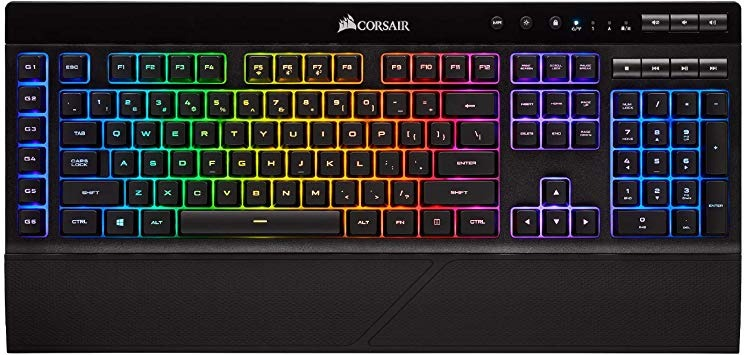keyboard: (9, 4, 737, 348)
